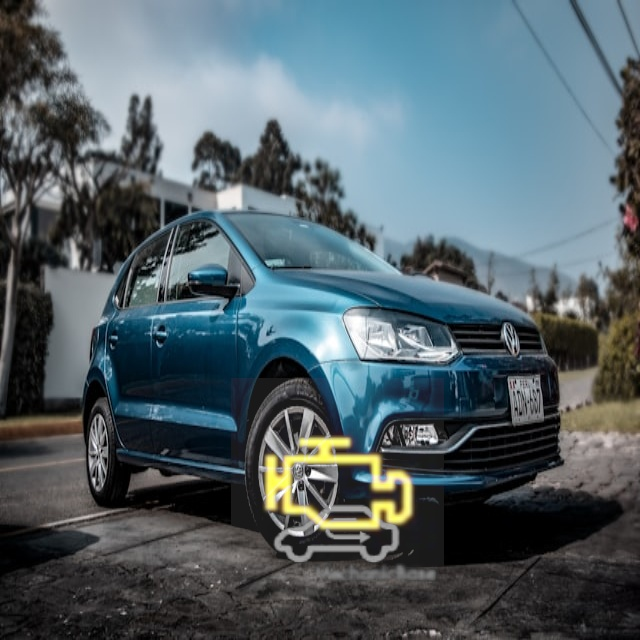symbol: (231, 378, 444, 591), (255, 454, 419, 618)
